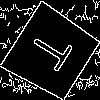T: (26, 27, 82, 77)
